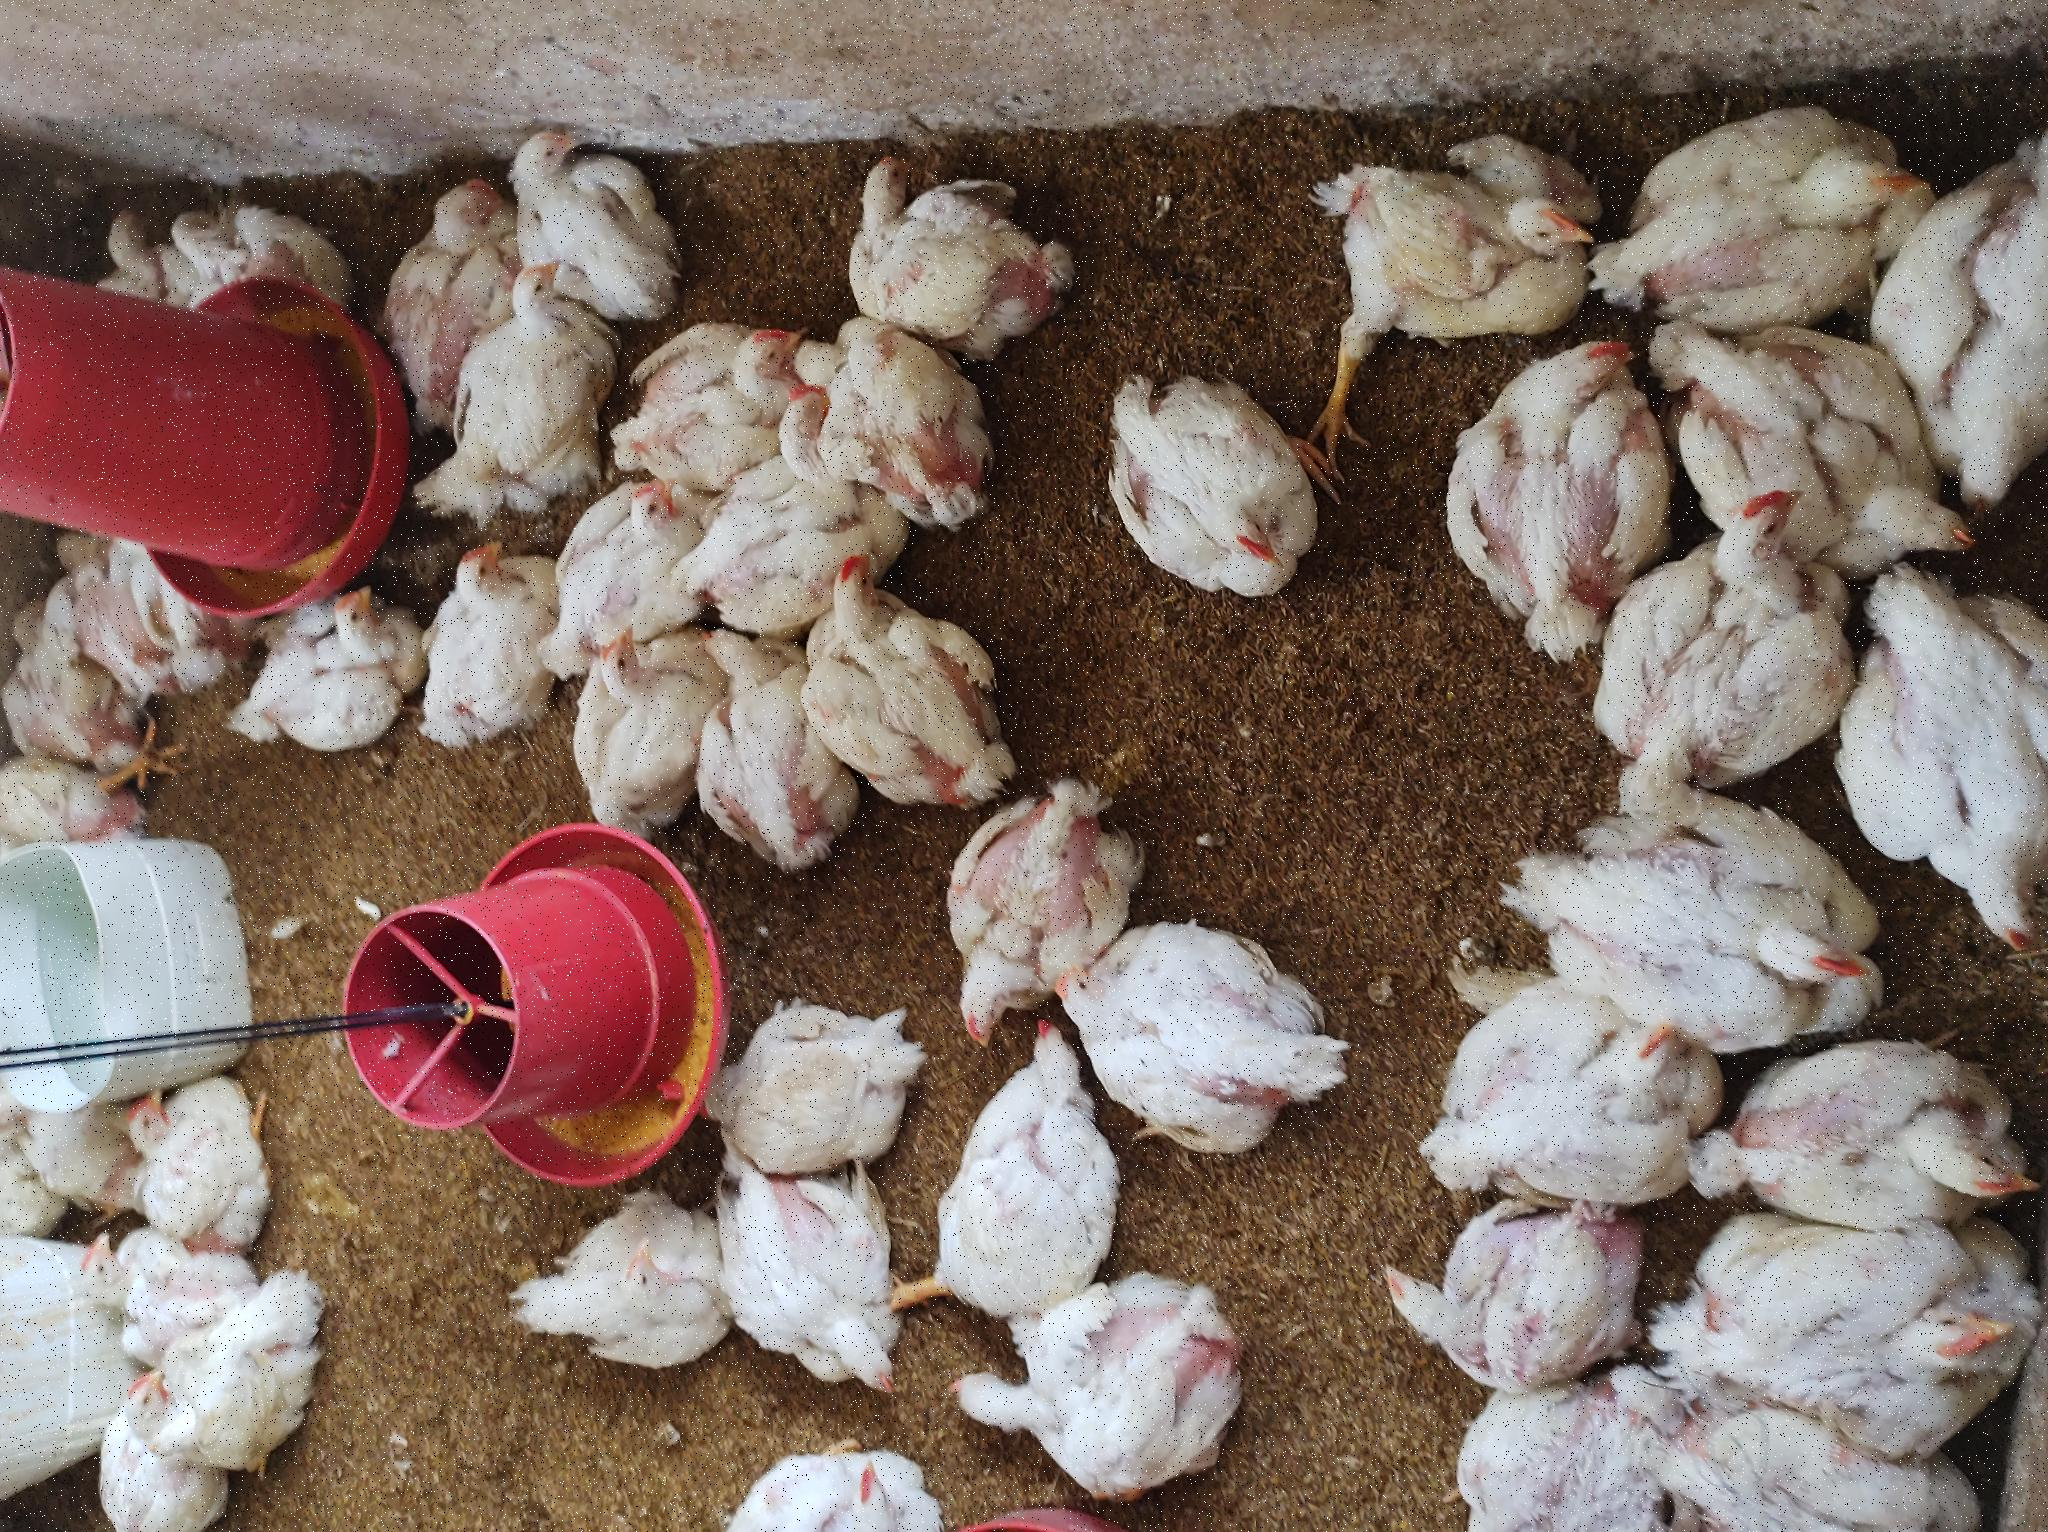Pollos: (35, 956, 280, 1226), (402, 1064, 619, 1334), (1171, 1316, 1437, 1532), (204, 933, 502, 1118), (494, 941, 763, 1146), (941, 1093, 1154, 1334), (130, 697, 368, 909), (726, 816, 988, 1006), (1203, 843, 1388, 1077), (151, 505, 336, 723), (357, 689, 534, 912), (1018, 787, 1207, 983), (48, 121, 224, 327), (1020, 463, 1273, 600), (779, 224, 949, 409), (853, 34, 1033, 208), (771, 399, 986, 541), (689, 570, 898, 715), (661, 686, 904, 806), (1129, 380, 1369, 496), (891, 541, 1057, 708), (1047, 637, 1232, 776), (161, 1378, 320, 1532), (898, 1448, 1189, 1532), (1276, 497, 1421, 652), (312, 117, 446, 277), (2, 719, 97, 937), (328, 1427, 518, 1532), (193, 72, 310, 238), (676, 2, 777, 175), (1229, 175, 1339, 335), (2, 1429, 148, 1532), (777, 3, 862, 122), (1030, 748, 1149, 830), (1224, 98, 1358, 159)
